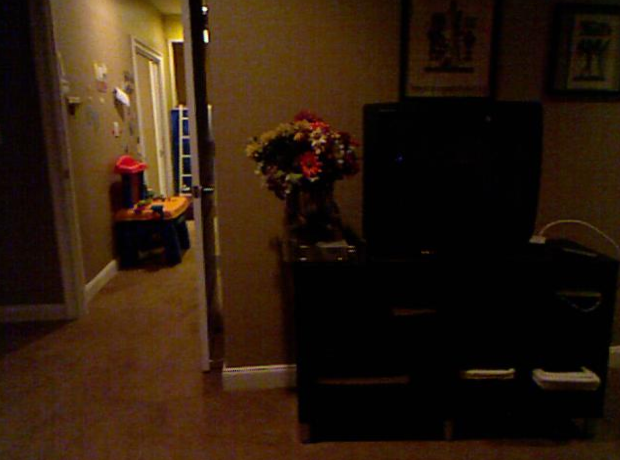openedDoor: (62, 0, 203, 316), (132, 42, 157, 155)
